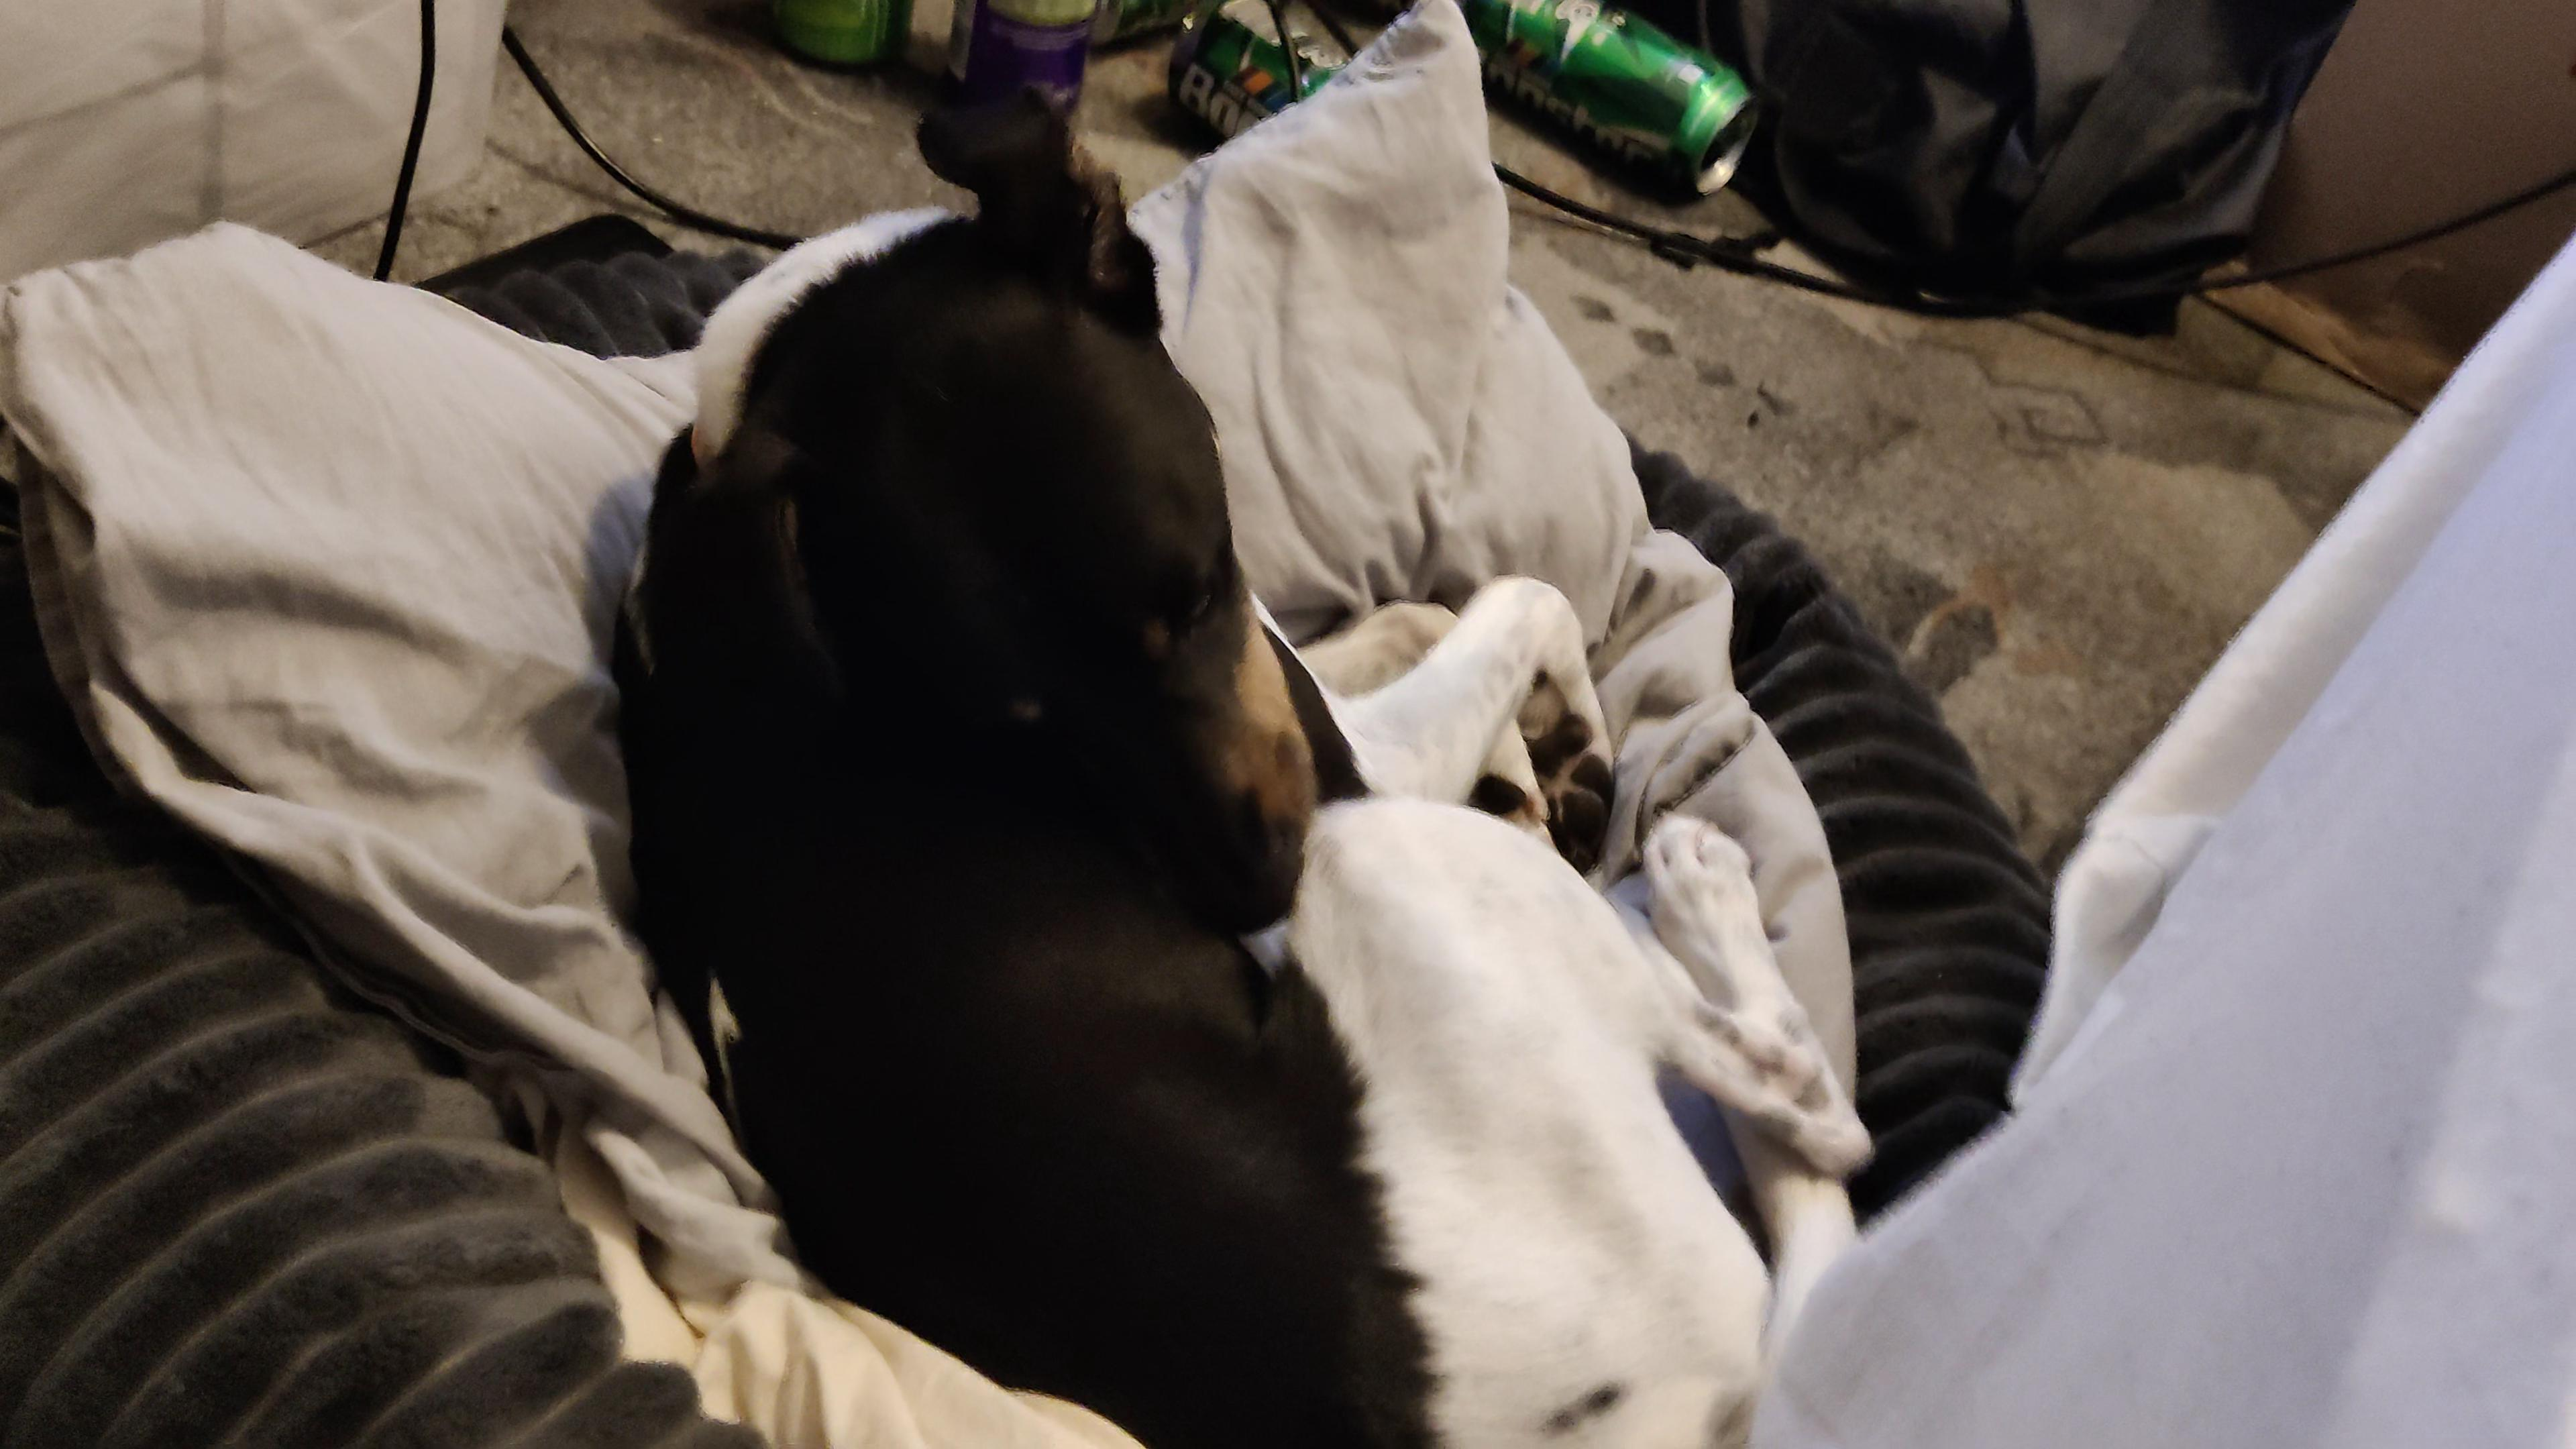Dog: (591, 64, 1898, 1449)
